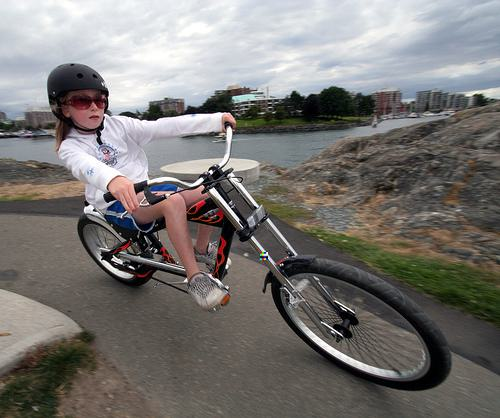car: (77, 121, 452, 392)
person: (47, 63, 238, 311)
